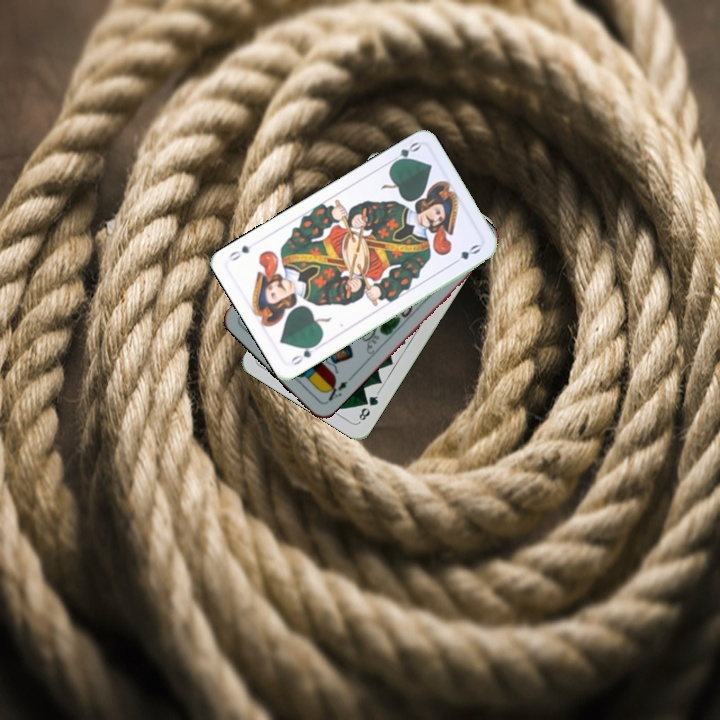EA: (321, 373, 354, 405)
G8: (355, 388, 381, 425)
GO: (385, 138, 423, 168), (286, 339, 321, 368)
